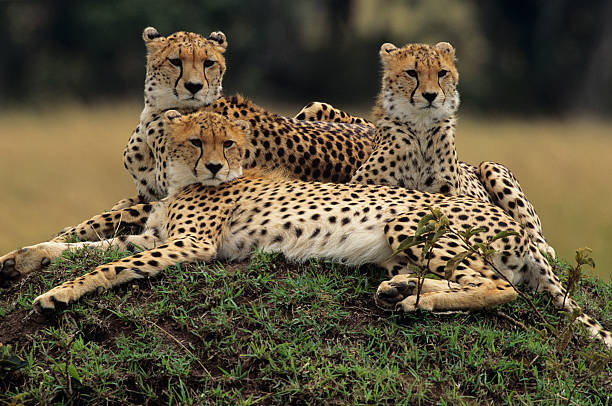cheetah: (365, 32, 470, 136), (150, 108, 259, 197), (139, 23, 246, 108)
